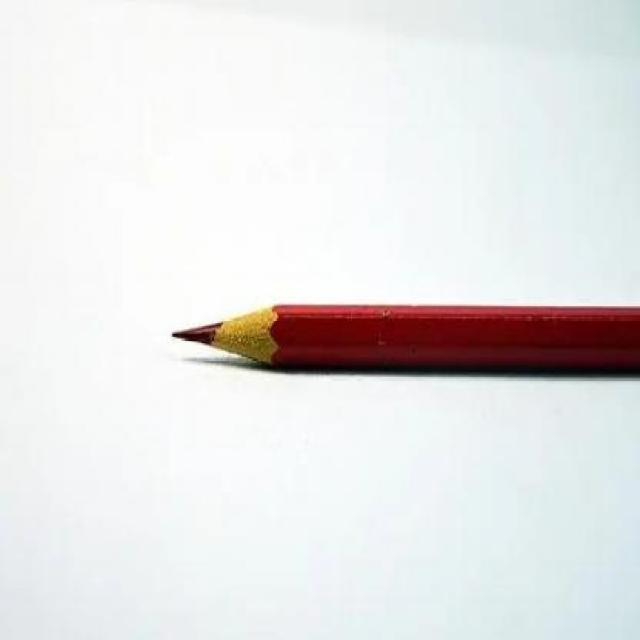pencil: (170, 300, 638, 383)
